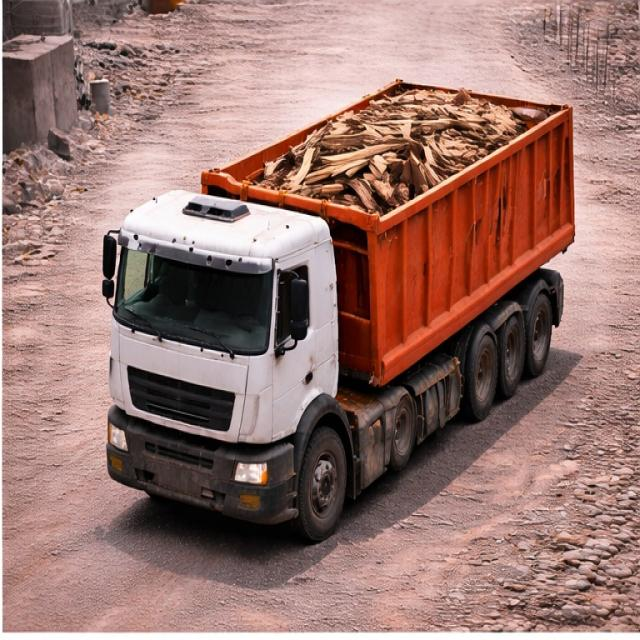trailer: (204, 76, 576, 227)
truck: (98, 55, 589, 524)
